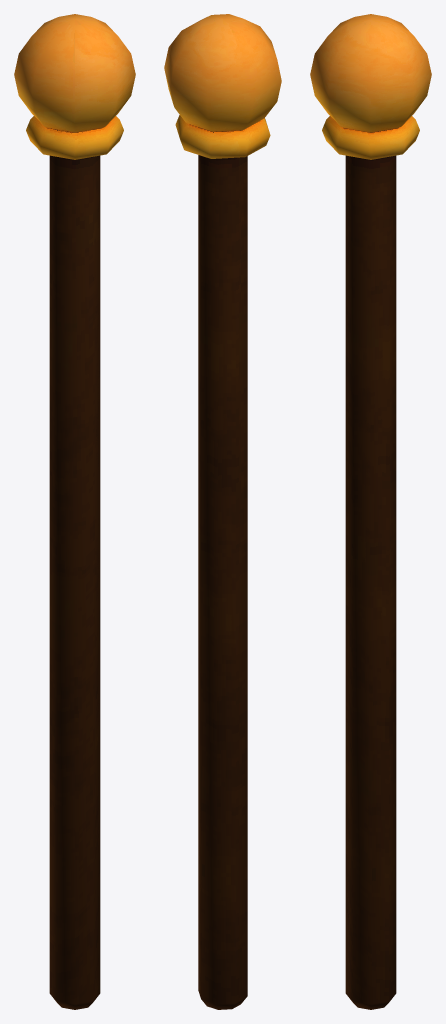
The model's file is item_ringmaster_staff.glb.
The picture shows the model from 3 angles, left to right: view 1: azimuth 90°, elevation 25°; view 2: azimuth 210°, elevation 25°; view 3: azimuth 270°, elevation 25°; orthographic projection.
Visible parts, largest first — view 1: default; view 2: default; view 3: default.
Part boxes in pixels (left/top/right/bottom): default: left=14, top=14, right=135, bottom=1009; default: left=164, top=14, right=281, bottom=1009; default: left=310, top=14, right=431, bottom=1009.
Size of the model in its own units: 0.09 by 0.8017 by 0.09.
1 material, 1 textured.
